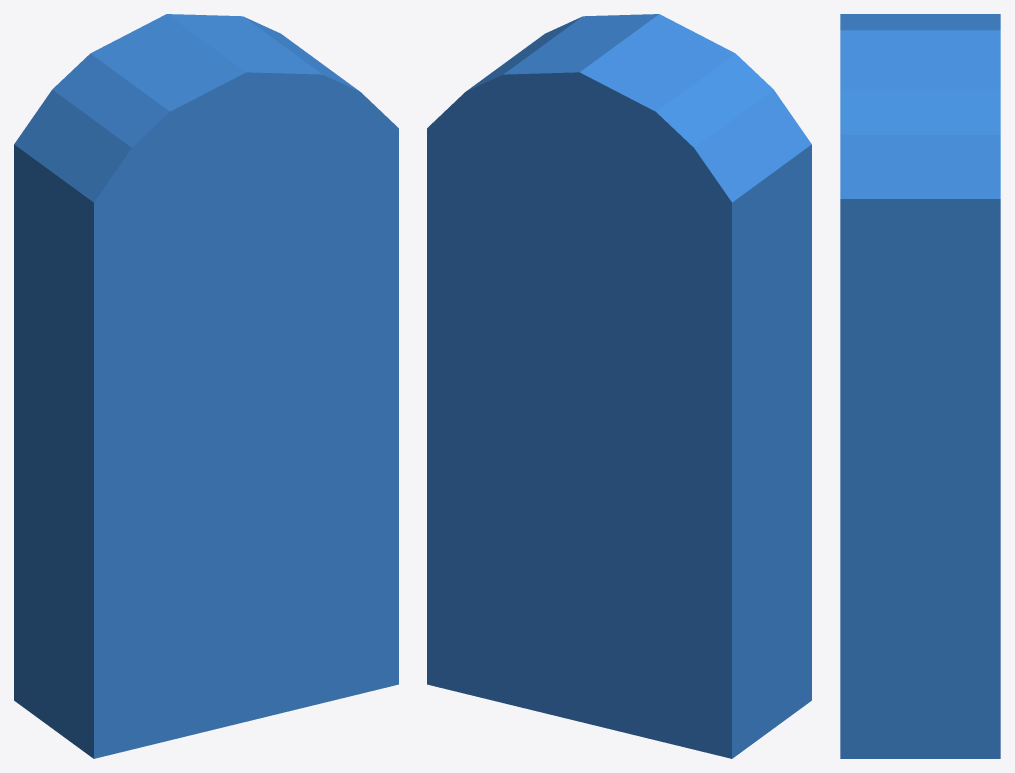
File: Collision_Window_Thin_Round_Rocks.fbx
3 renders of one model, left to right at view 1: azimuth 30°, elevation 25°; view 2: azimuth 150°, elevation 25°; view 3: azimuth 270°, elevation 25°, orthographic.
Parts seen in each view (by area): view 1: UCX_Window_Thin_Round_Rocks_1; view 2: UCX_Window_Thin_Round_Rocks_1; view 3: UCX_Window_Thin_Round_Rocks_1.
Boxes of the visible parts, x1,y1,x2,y2 form: UCX_Window_Thin_Round_Rocks_1: (14, 14, 398, 758); UCX_Window_Thin_Round_Rocks_1: (427, 14, 811, 758); UCX_Window_Thin_Round_Rocks_1: (840, 14, 1000, 758).
Bounding box in the file's own units: 81.64 × 166 × 36.96.
